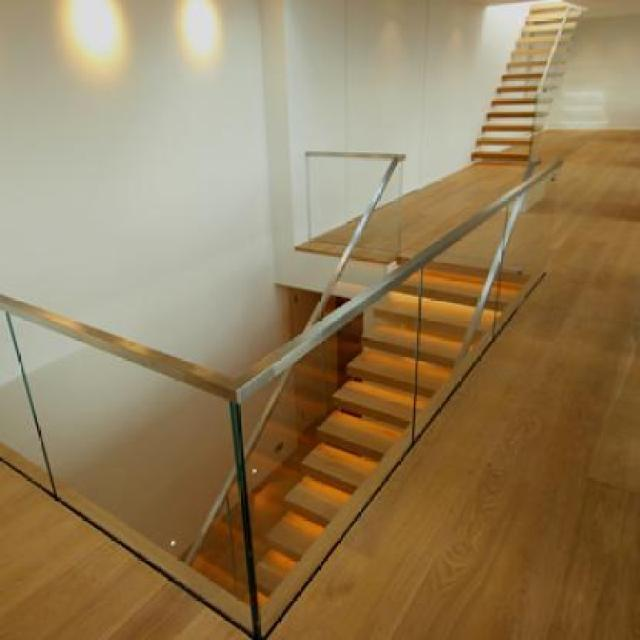stair: (143, 245, 551, 618), (442, 0, 606, 157)
